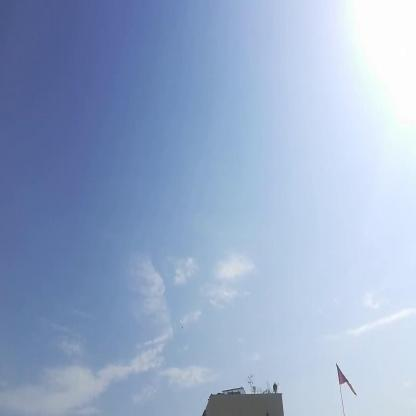other: (349, 0, 411, 168)
